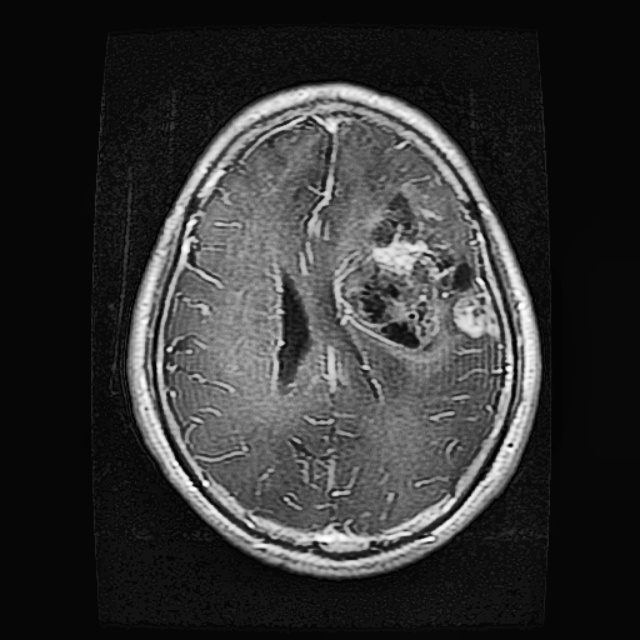Pituitary: (332, 192, 499, 354)
